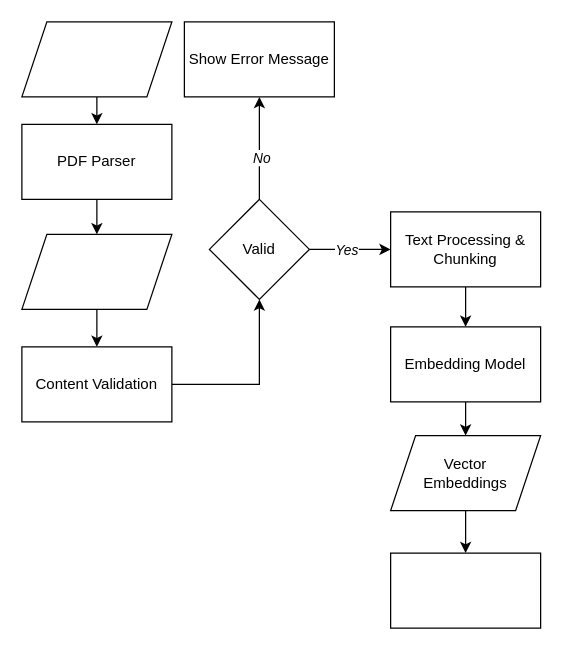
Image size: 563x650. Some labels were removed from this diagram. The centre of each missing label's shape, as x and y in pixels:
"Page Content + Metadata" goes at (x=96, y=271).
"PDF document" goes at (x=96, y=59).
"Vector DB" goes at (x=465, y=590).
